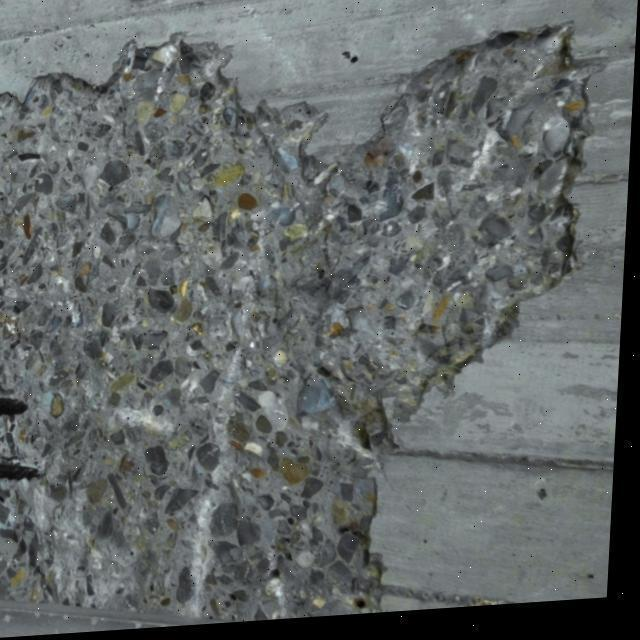D10: (0, 22, 592, 585)
